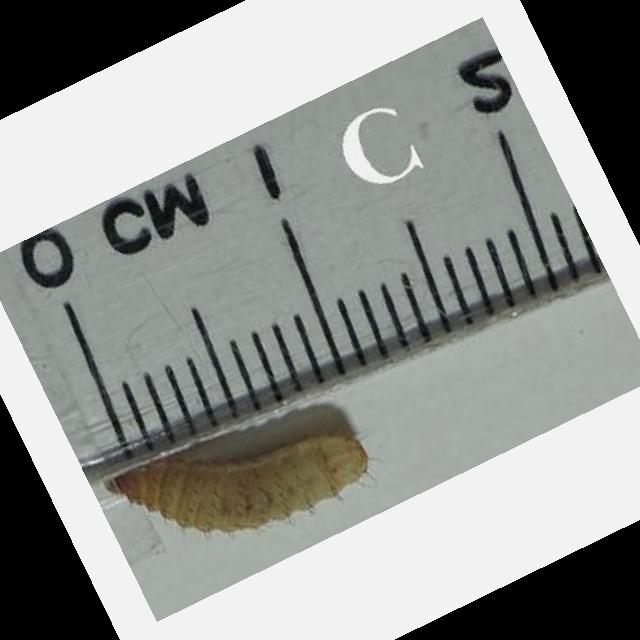Maggot: (104, 434, 371, 532)
